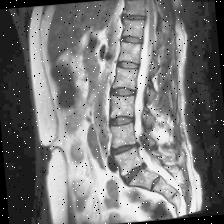disc: (120, 9, 148, 25), (122, 33, 146, 48), (116, 58, 141, 72)
hdisc: (106, 112, 138, 130), (108, 140, 144, 156), (111, 84, 140, 101)
